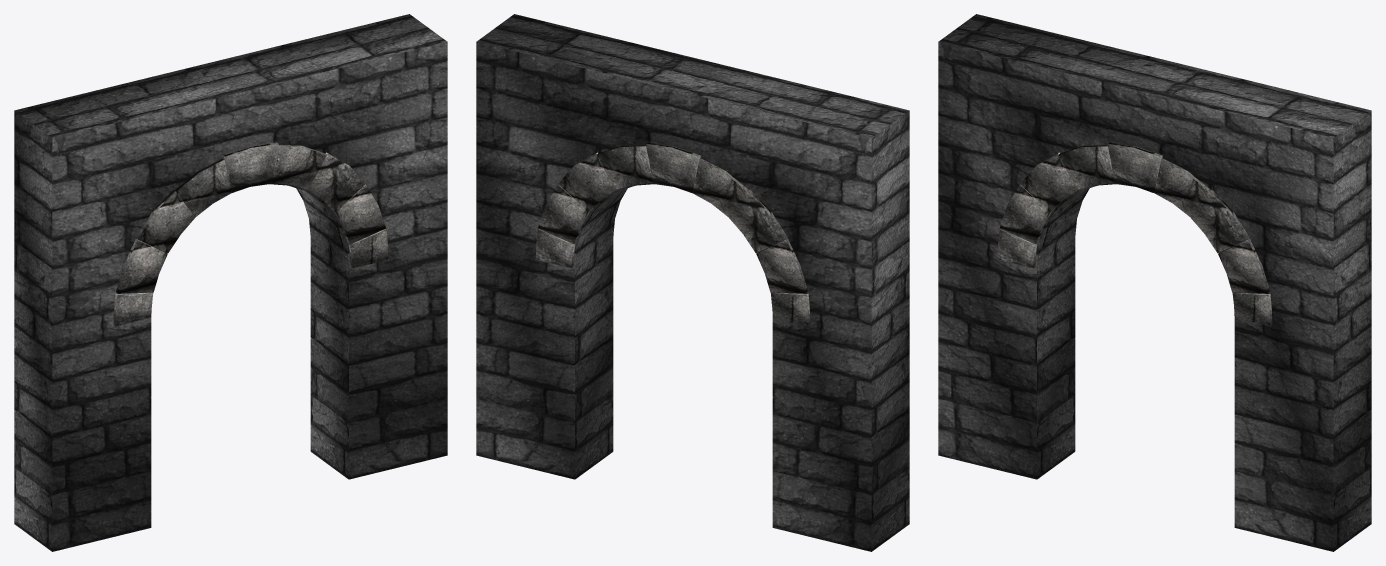
Rendered from stone wall gate.glb.
3 views of the same model, side by side, from view 1: azimuth 30°, elevation 25°; view 2: azimuth 150°, elevation 25°; view 3: azimuth 330°, elevation 25° (orthographic).
Parts seen in each view (by area): view 1: Circular Doorway.010; view 2: Circular Doorway.010; view 3: Circular Doorway.010.
Part boxes in pixels (x1=…): Circular Doorway.010: x1=14, y1=14, x2=447, y2=551; Circular Doorway.010: x1=476, y1=14, x2=909, y2=551; Circular Doorway.010: x1=938, y1=14, x2=1371, y2=551.
Bounding box in the file's own units: 2.74 × 2.74 × 0.5011.
2 materials, 2 textured.
